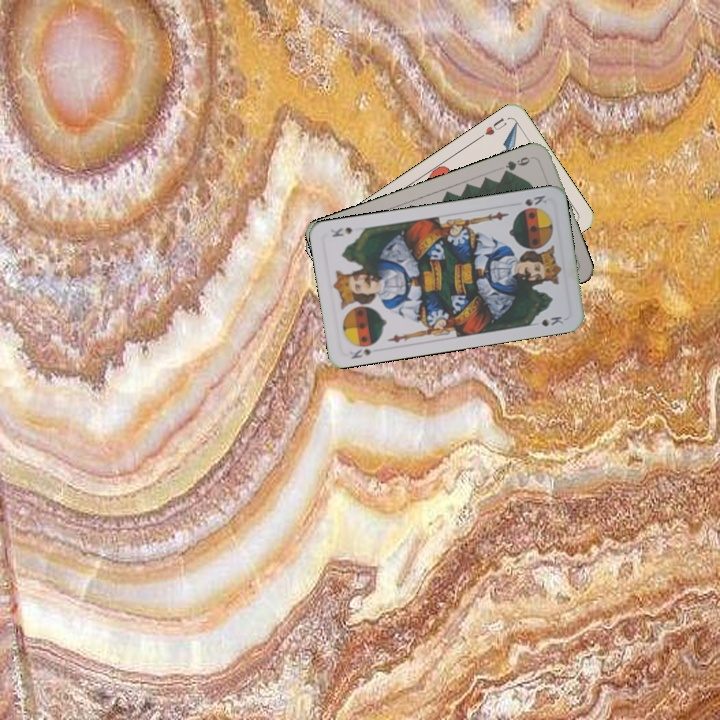G9: (499, 152, 537, 177)
HU: (475, 113, 509, 141)
SK: (521, 191, 550, 208), (346, 345, 375, 362)
